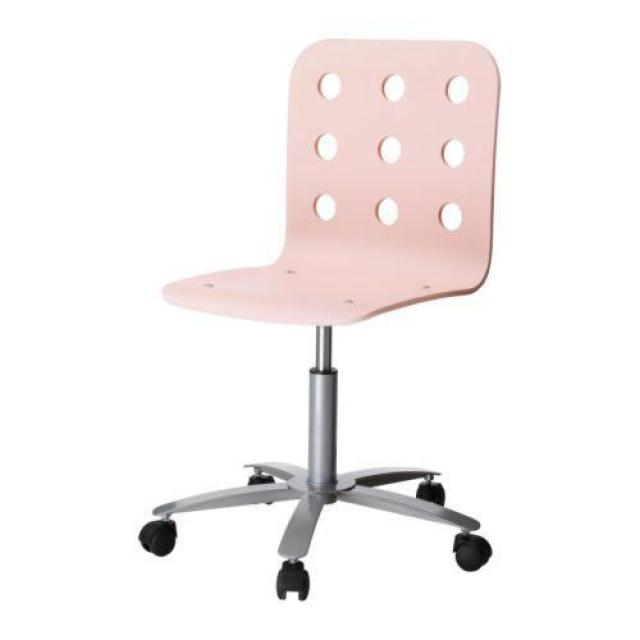swivelchair: (137, 37, 502, 603)
